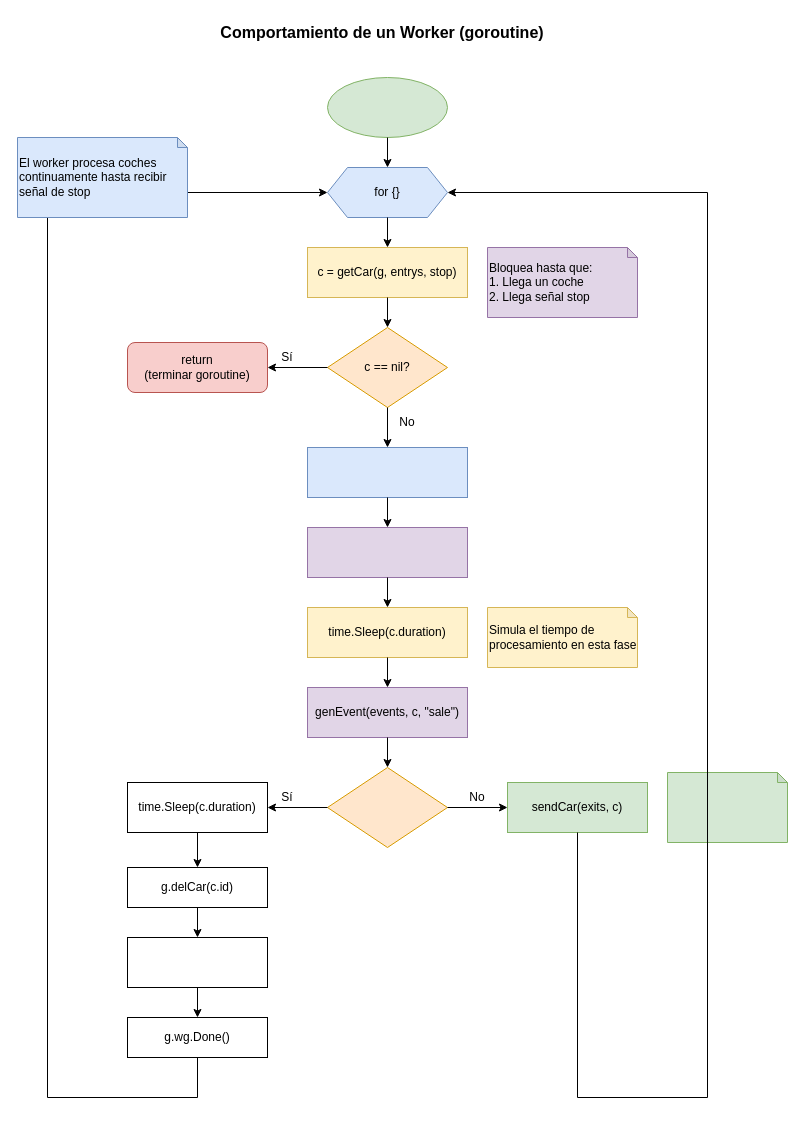
The diagram is 805 pixels wide and 1123 high, and some of its shapes have lost their labels. The box of each missing label's shape, as (x1, y1, x2, y2) in pixels:
Envía el coche a la siguiente fase: (666, 772, 788, 842)
g.freeSlots <- struct{}{}: (126, 936, 268, 988)
g.updatePhase(c.id, phase): (306, 446, 468, 498)
genEvent(events, c, "entra"): (306, 526, 468, 578)
Inicio Worker: (326, 76, 448, 138)
phase == DELIVERYPHASE?: (326, 766, 448, 848)
